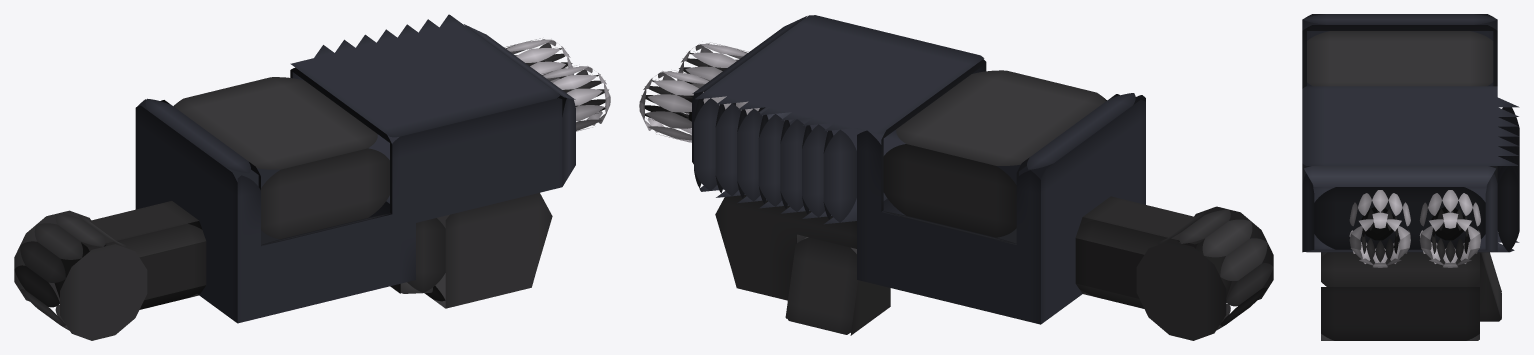
Rendered from Colossus Right Arm.obj.
The picture shows the model from 3 angles, left to right: view 1: azimuth 30°, elevation 25°; view 2: azimuth 150°, elevation 25°; view 3: azimuth 270°, elevation 25°; orthographic projection. The views are drawn at different scales.
Visible parts, largest first — view 1: Forearm, cylinder, cuboid, Arm; view 2: Forearm, cylinder, cuboid, Arm; view 3: Forearm, cuboid, cylinder.
Boxes of the visible parts, bbox=[...] form: Forearm: bbox=[135, 14, 575, 323]; cylinder: bbox=[14, 38, 610, 340]; cuboid: bbox=[390, 192, 552, 308]; Arm: bbox=[54, 201, 206, 309]; Forearm: bbox=[692, 15, 1145, 324]; cylinder: bbox=[639, 42, 1273, 340]; cuboid: bbox=[715, 195, 890, 335]; Arm: bbox=[1075, 196, 1231, 308]; Forearm: bbox=[1302, 14, 1519, 252]; cuboid: bbox=[1321, 252, 1501, 340]; cylinder: bbox=[1349, 190, 1480, 267].
Bounding box in the file's own units: 0.875 × 0.3031 × 0.31.
1 material, 1 textured.
